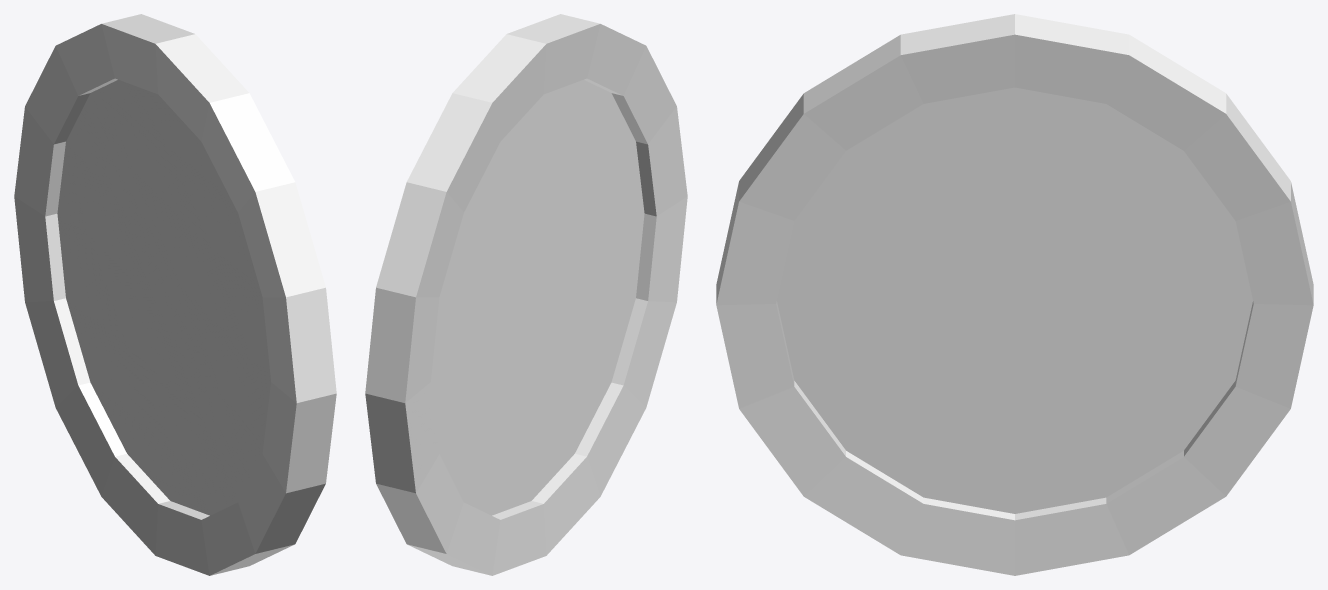
Rendered from Coin.fbx.
3 views of the same model, side by side, from view 1: azimuth 30°, elevation 25°; view 2: azimuth 150°, elevation 25°; view 3: azimuth 270°, elevation 25° (orthographic). The views are drawn at different scales.
Visible parts, largest first — view 1: Cylinder; view 2: Cylinder; view 3: Cylinder.
Boxes of the visible parts, box(x1,y1,x2,y2) form: Cylinder: box(14, 14, 336, 575); Cylinder: box(365, 14, 687, 575); Cylinder: box(716, 14, 1313, 575).
Size of the model in its own units: 16.35 by 200 by 200.
